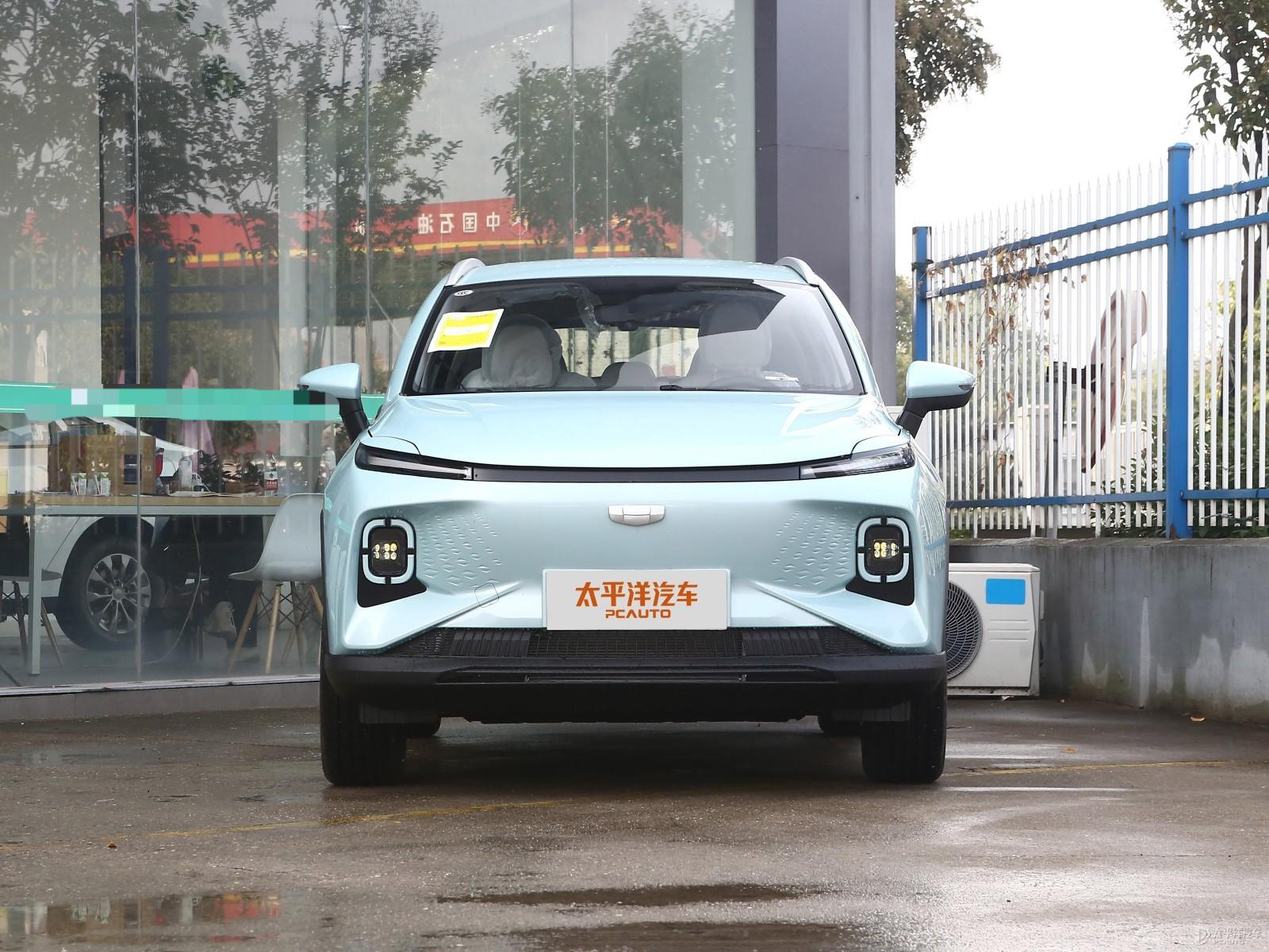GEOMETRY: (610, 505, 664, 524)
